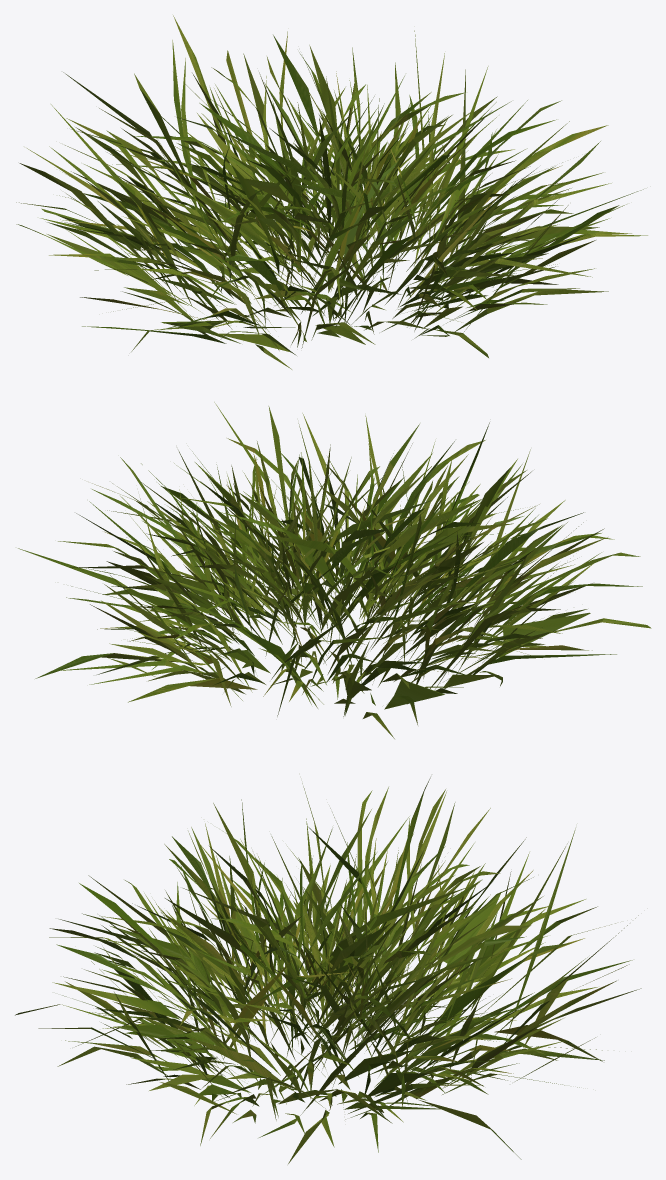
File: Grass_Clump_02.glb
3 views of the same model, one above another, from view 1: azimuth 30°, elevation 25°; view 2: azimuth 150°, elevation 25°; view 3: azimuth 270°, elevation 25° (orthographic). The views are drawn at different scales.
Parts seen in each view (by area): view 1: Grass_Clump_02; view 2: Grass_Clump_02; view 3: Grass_Clump_02.
Part boxes in pixels (box(x1,y1,x2,y2)): Grass_Clump_02: box(16, 15, 647, 369); Grass_Clump_02: box(18, 402, 651, 738); Grass_Clump_02: box(15, 777, 641, 1163).
Size of the model in its own units: 0.5921 by 0.22 by 0.5679.
1 material, 1 textured.
